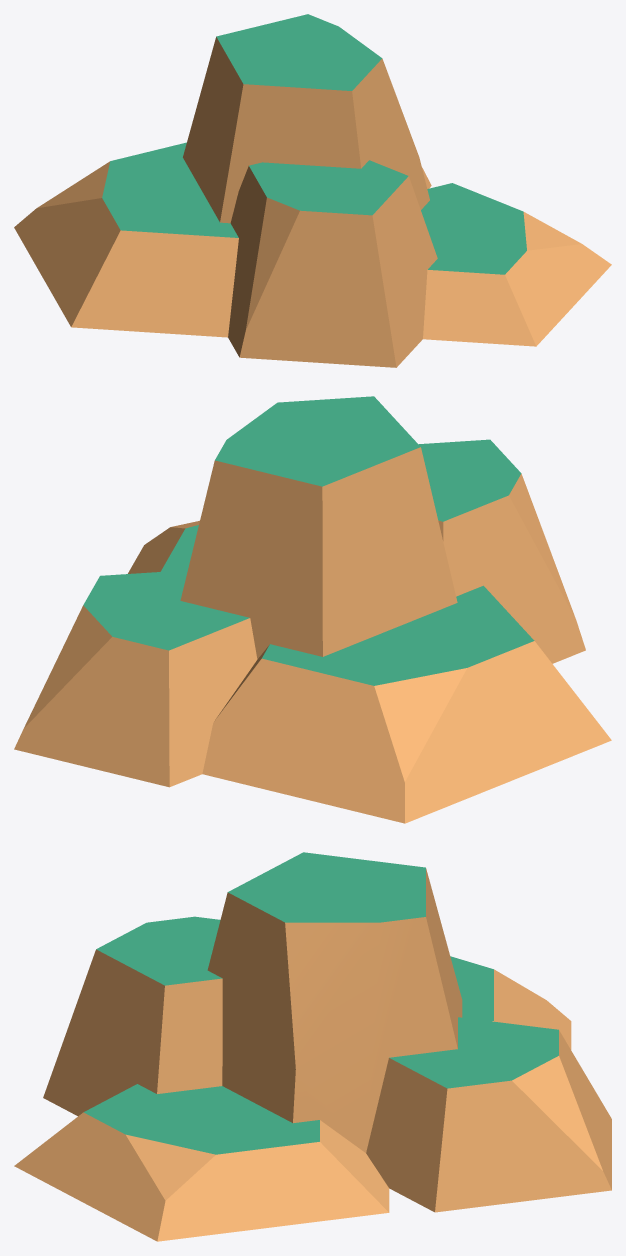
The model's file is detail_dirtLarge.dae.
The picture shows the model from 3 angles, top to bottom: view 1: azimuth 30°, elevation 25°; view 2: azimuth 150°, elevation 25°; view 3: azimuth 270°, elevation 25°; orthographic projection. The views are drawn at different scales.
Parts seen in each view (by area): view 1: detail_dirtLarge; view 2: detail_dirtLarge; view 3: detail_dirtLarge.
Boxes of the visible parts, bbox=[...] form: detail_dirtLarge: bbox=[14, 14, 611, 367]; detail_dirtLarge: bbox=[14, 396, 611, 823]; detail_dirtLarge: bbox=[14, 852, 611, 1241].
Bounding box in the file's own units: 1 × 0.4186 × 1.
